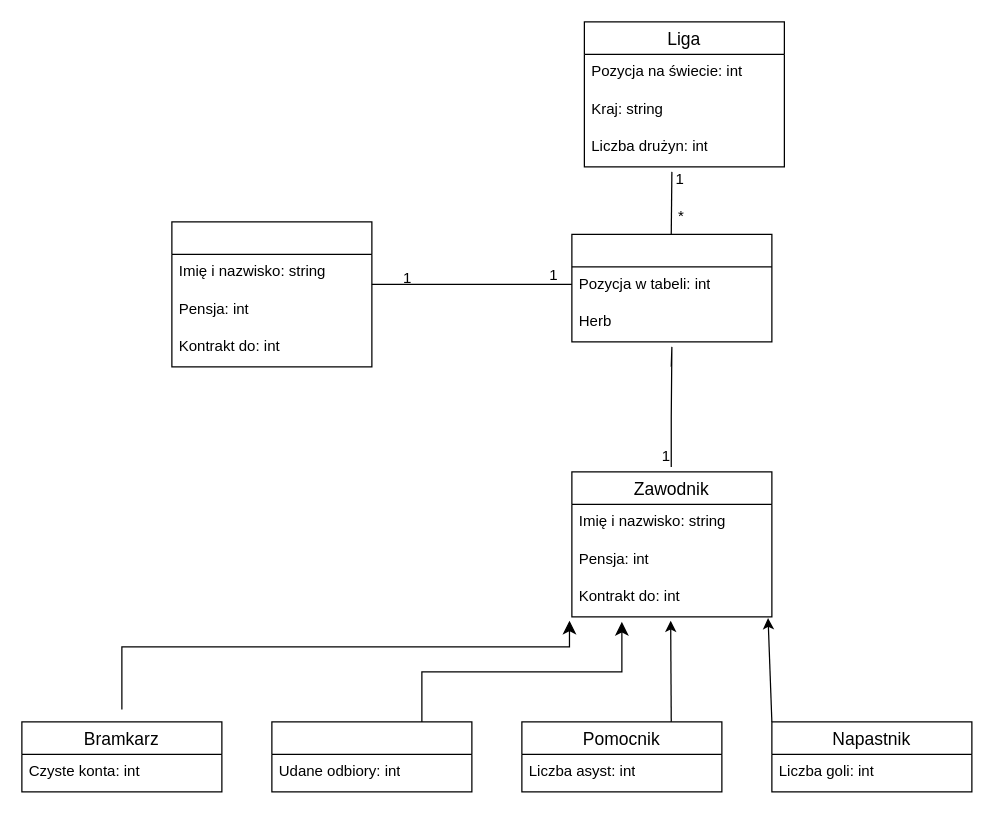
Some shapes in this 994 by 818 pixel diagram are drawn without their labels. The box of each missing label's shape, as (x1, y1, x2, y2) in pixels:
Drużyna: (571, 233, 772, 342)
Obrońca: (271, 721, 472, 792)
Trener: (171, 221, 372, 367)
